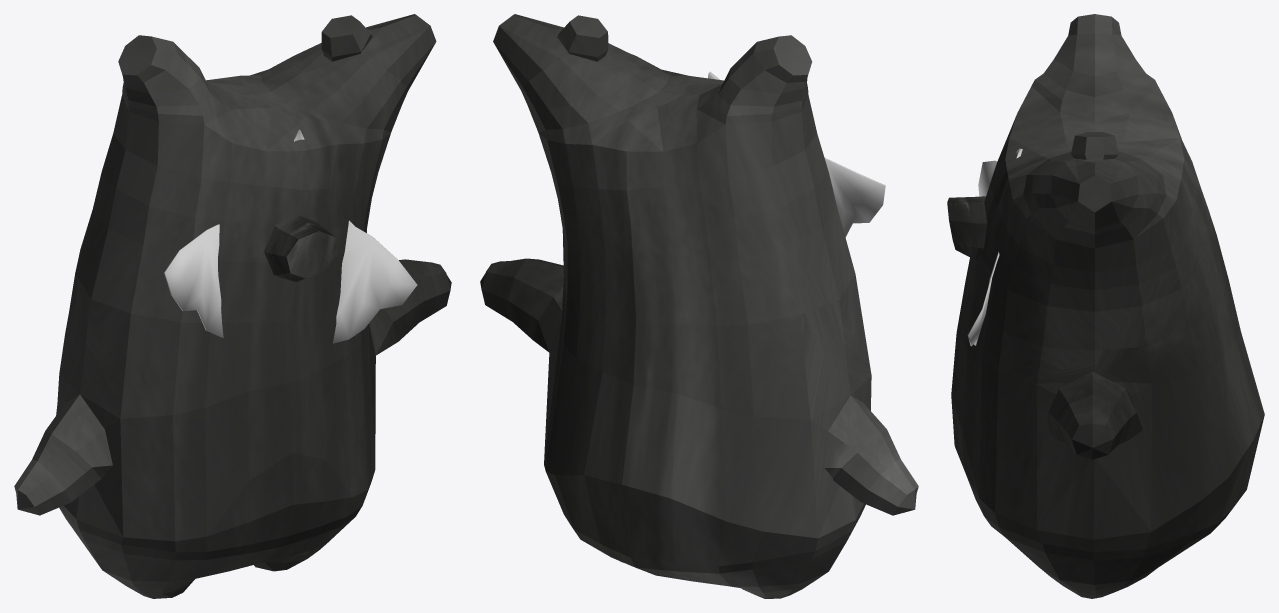
Rendered from frame_0069.obj.
The picture shows the model from 3 angles, left to right: view 1: azimuth 30°, elevation 25°; view 2: azimuth 150°, elevation 25°; view 3: azimuth 270°, elevation 25°; orthographic projection. The views are drawn at different scales.
Parts seen in each view (by area): view 1: korok, leaf, nose; view 2: korok, leaf; view 3: korok, nose, leaf.
Part boxes in pixels (box(x1,y1,x2,y2)): korok: box(14, 14, 451, 598); leaf: box(164, 129, 417, 343); nose: box(264, 215, 336, 282); korok: box(480, 14, 918, 598); leaf: box(708, 71, 885, 237); korok: box(951, 14, 1264, 598); nose: box(947, 196, 987, 260); leaf: box(967, 148, 1022, 346).
Size of the model in its own units: 1.74 by 2.16 by 1.18.
